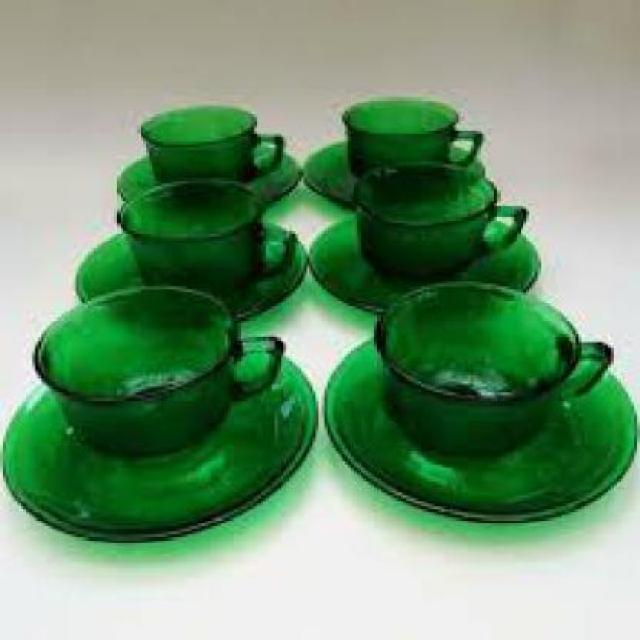kaca: (321, 329, 637, 522), (0, 348, 314, 538), (371, 275, 611, 451), (29, 284, 283, 448), (114, 172, 295, 298), (304, 214, 542, 309), (73, 220, 304, 317), (351, 156, 526, 278), (302, 143, 484, 212), (340, 96, 483, 182), (138, 103, 282, 183), (114, 151, 295, 200)
